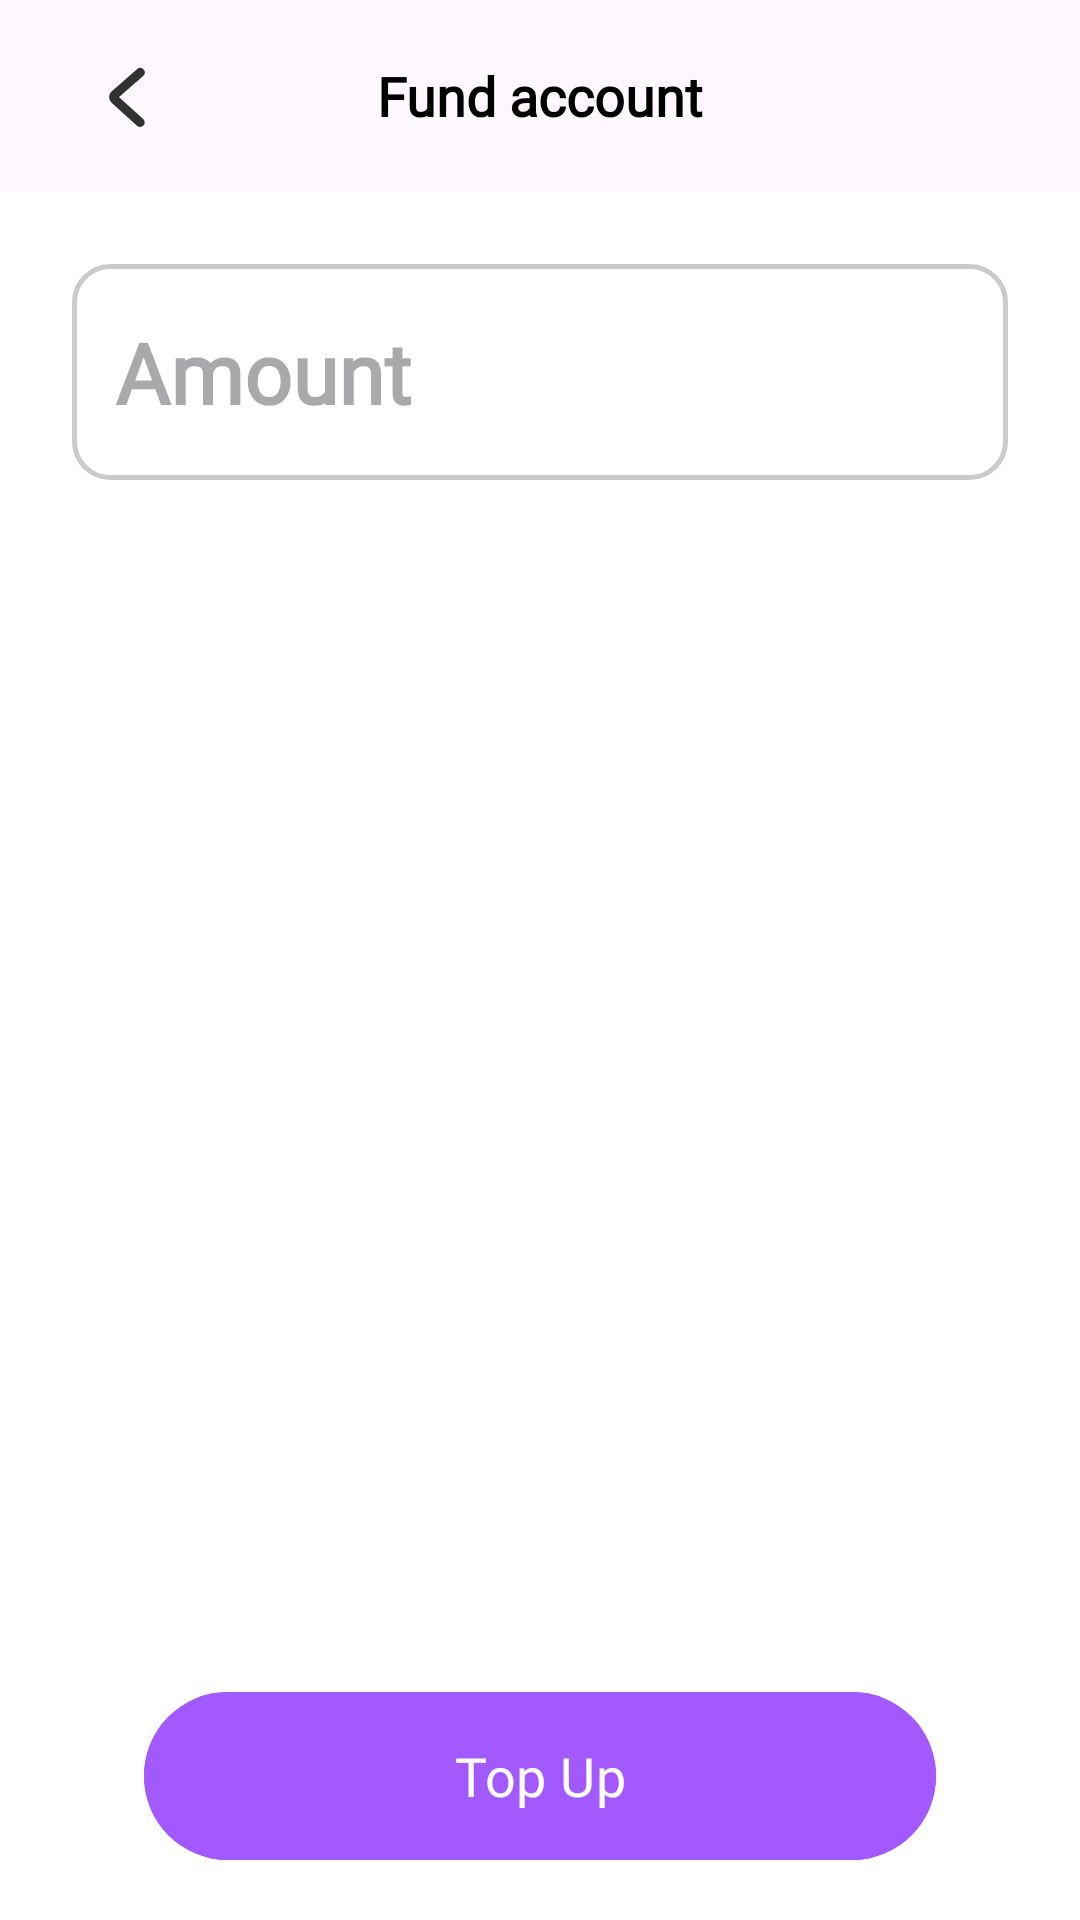

Icons on this 1080w x 1920h Android screen, each with the point to tap as (x,y):
Back Button: (127,97)
